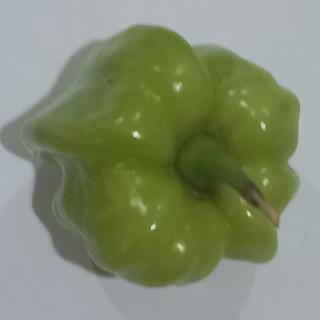Grade-B: (18, 20, 305, 291)
